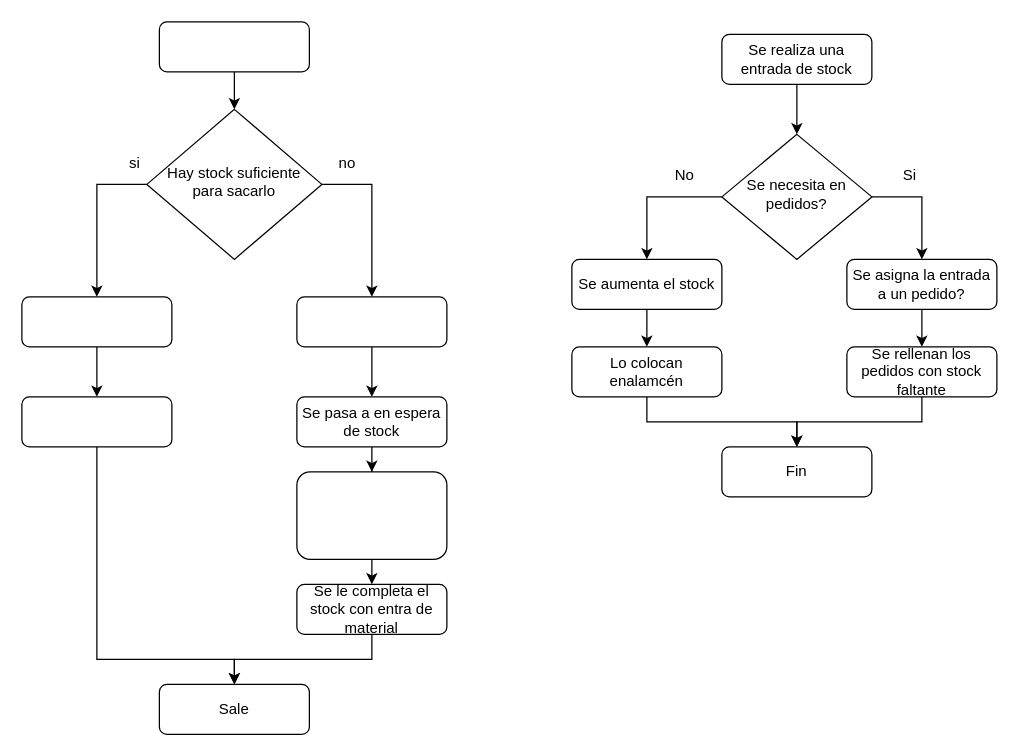
Some shapes in this 1019 by 756 pixel diagram are drawn without their labels. Here are the shapes that lost their labels. From the top down, the centre of each, then its label:
pixel 233 46: Entra un pedido de venta
pixel 96 321: Se le asignan los items
pixel 371 321: Se le asignan el stock libre
pixel 96 421: Se lo pone en pendiente de prepar
pixel 371 515: Se genera pedido de compra y se registra el stock a pedir añadiendolo al total
